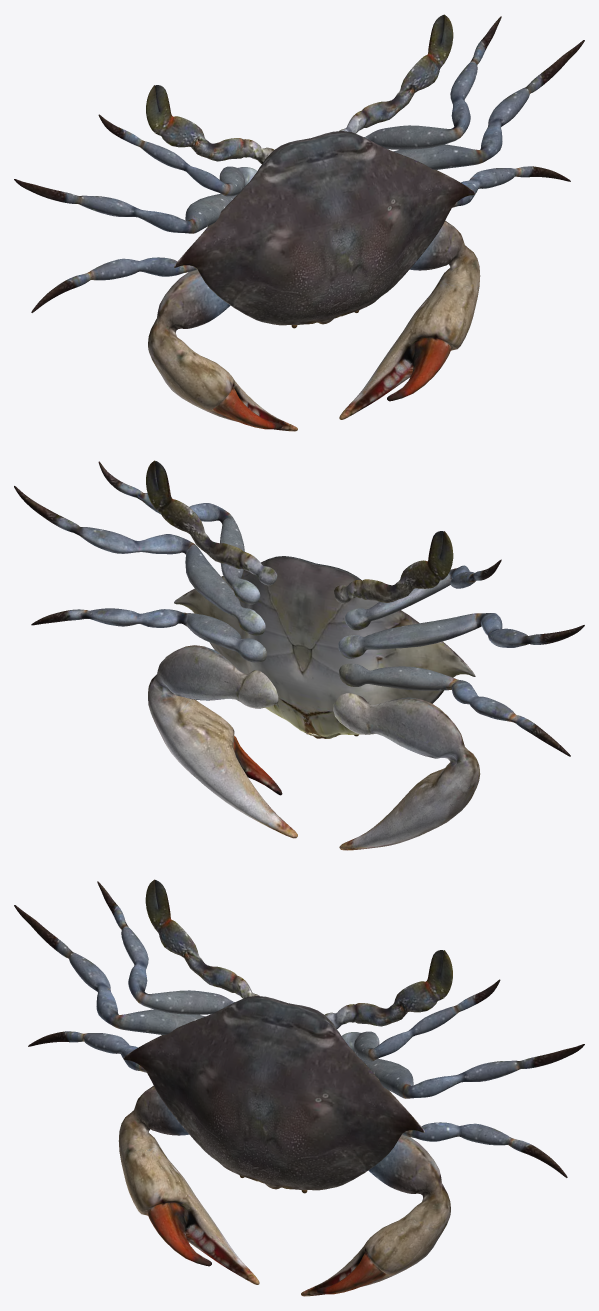
Rendered from crab.glb.
3 renders of one model, top to bottom at view 1: azimuth 30°, elevation 25°; view 2: azimuth 150°, elevation 25°; view 3: azimuth 330°, elevation 25°, orthographic.
Parts seen in each view (by area): view 1: 10012_crab_v2_iterations-1; view 2: 10012_crab_v2_iterations-1; view 3: 10012_crab_v2_iterations-1.
Part boxes in pixels (x1,y1,x2,y2): 10012_crab_v2_iterations-1: (14, 14, 584, 431); 10012_crab_v2_iterations-1: (14, 460, 584, 850); 10012_crab_v2_iterations-1: (14, 879, 584, 1296).
Size of the model in its own units: 36.5 by 22.1 by 5.13.
Materials: 1 (1 with a texture image).
